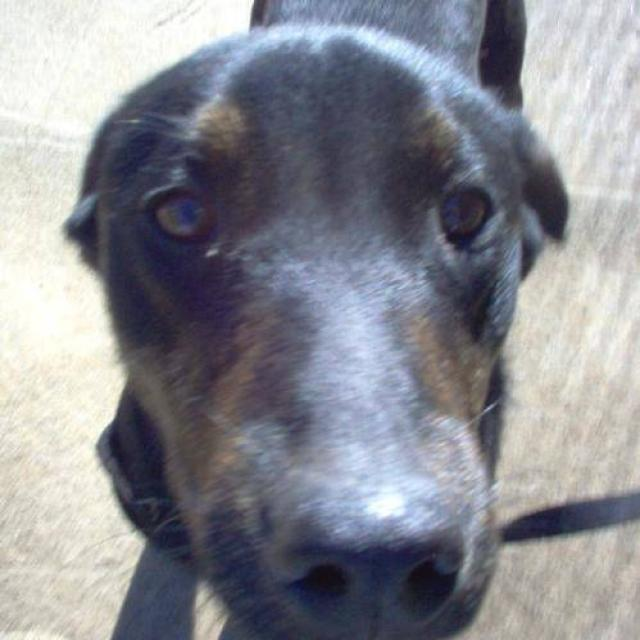Dog: (61, 20, 572, 640)
